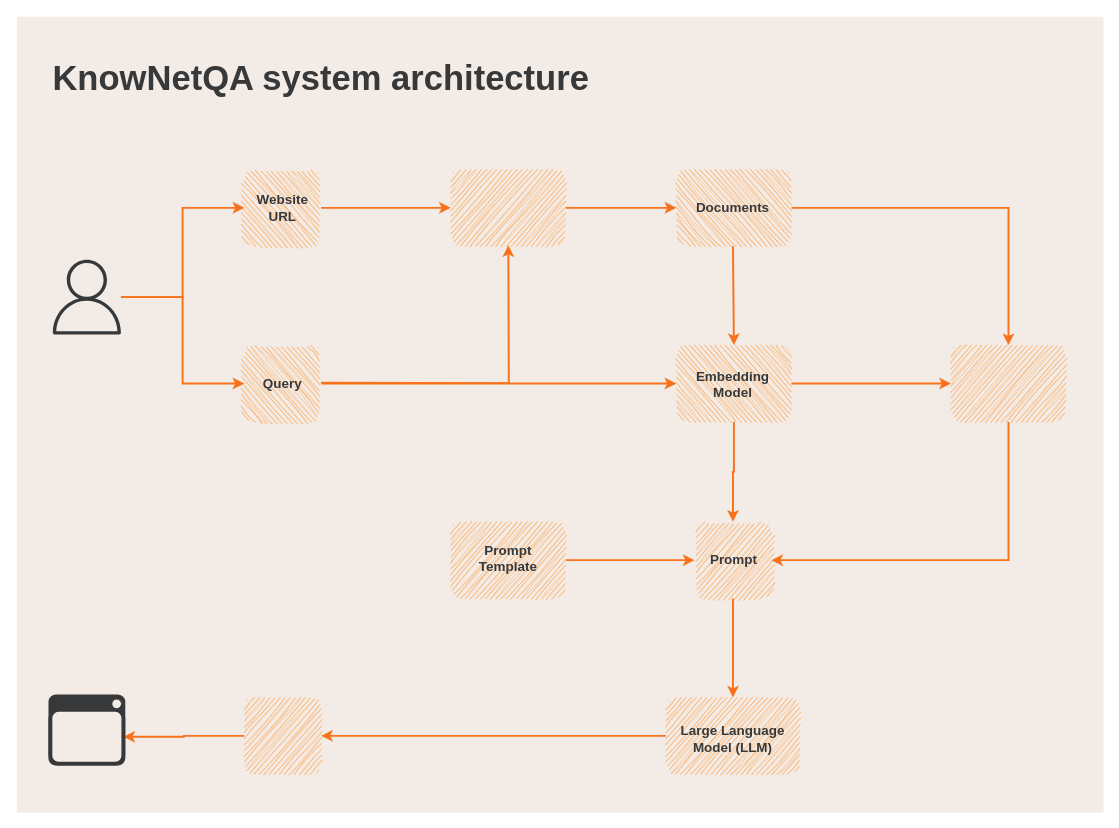
This 1119x828 diagram has some shape labels left out. Here are the shapes that lost their labels. From the top down, the centre of each, then its label:
pixel 507 207: Web Scraper
pixel 1008 383: Vector Database
pixel 282 735: Answer
